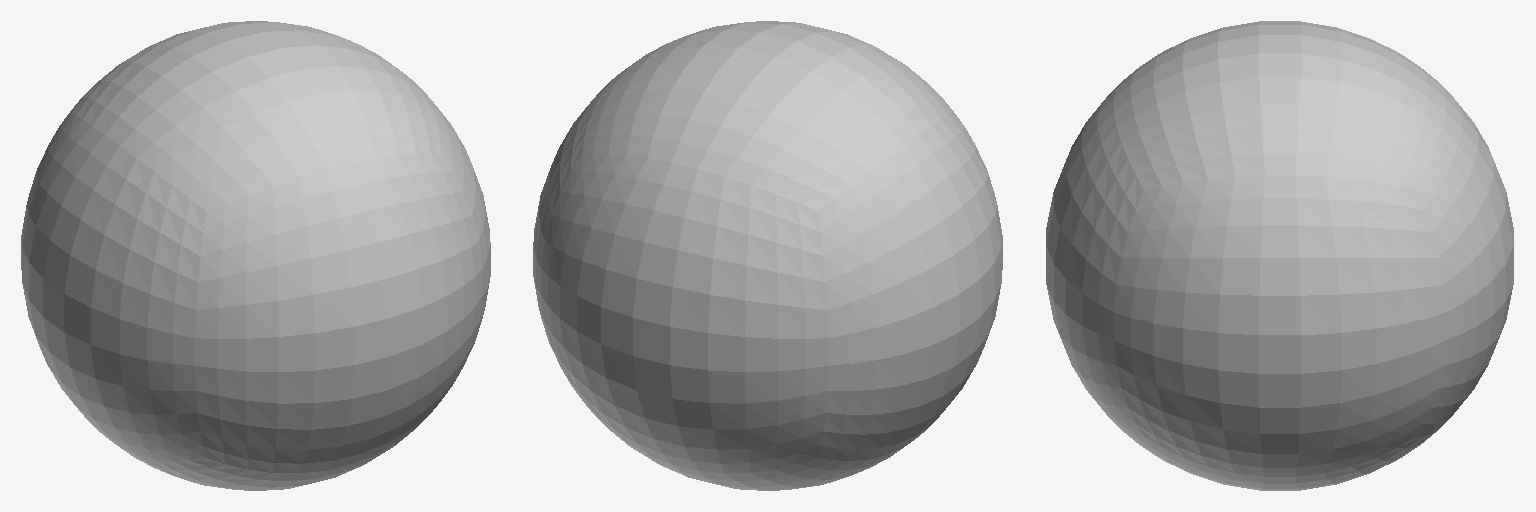
File: GunnerShield_shield.obj
The picture shows the model from 3 angles: view 1: azimuth 30°, elevation 25°; view 2: azimuth 150°, elevation 25°; view 3: azimuth 270°, elevation 25°; orthographic projection.
Visible parts, largest first — view 1: Cube; view 2: Cube; view 3: Cube.
Boxes of the visible parts, box(x1,y1,x2,y2) form: Cube: box(21, 21, 490, 490); Cube: box(533, 21, 1002, 490); Cube: box(1046, 21, 1513, 490).
Bounding box in the file's own units: 2.55 × 2.55 × 2.55.